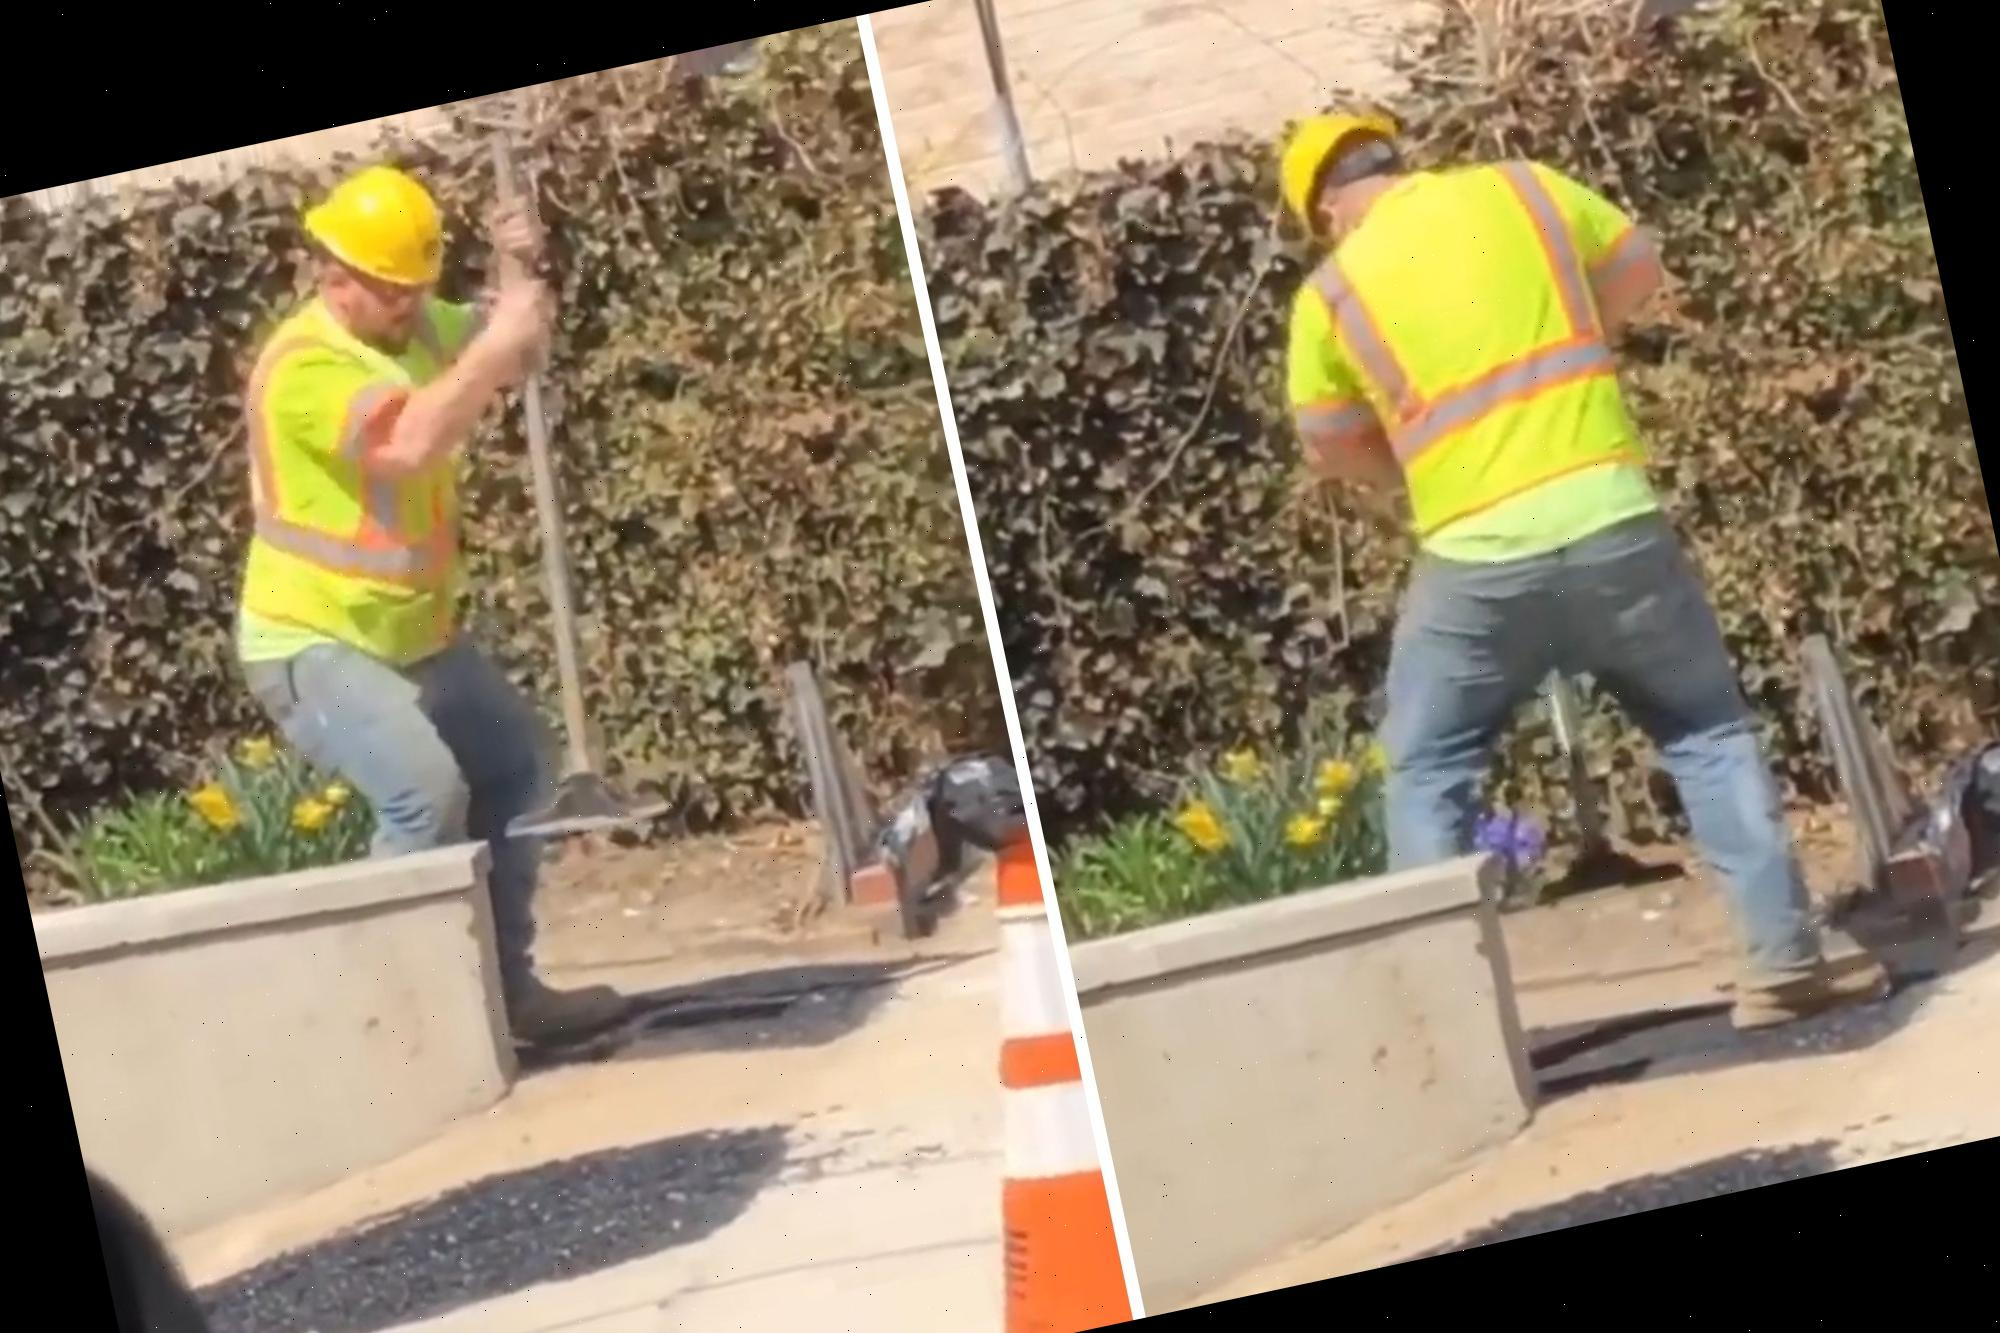helmet: (284, 156, 465, 321), (1267, 97, 1410, 234)
wear: (1291, 167, 1671, 595), (225, 315, 503, 677)
